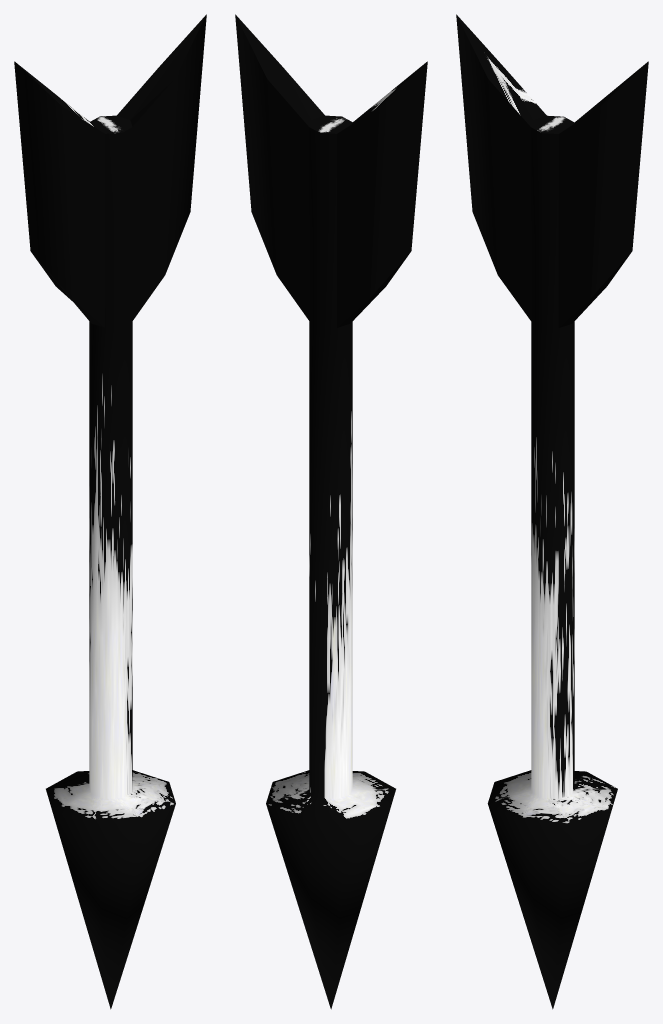
File: jiantou #09480942.fbx
3 views of the same model, side by side, from view 1: azimuth 30°, elevation 25°; view 2: azimuth 150°, elevation 25°; view 3: azimuth 330°, elevation 25° (orthographic).
Visible parts, largest first — view 1: jiantou; view 2: jiantou; view 3: jiantou.
Part boxes in pixels (x1=…): jiantou: x1=14, y1=14, x2=206, y2=1009; jiantou: x1=235, y1=14, x2=427, y2=1009; jiantou: x1=456, y1=14, x2=648, y2=1009.
Size of the model in its own units: 1.41 by 6.81 by 0.8558.
1 material, 1 textured.
